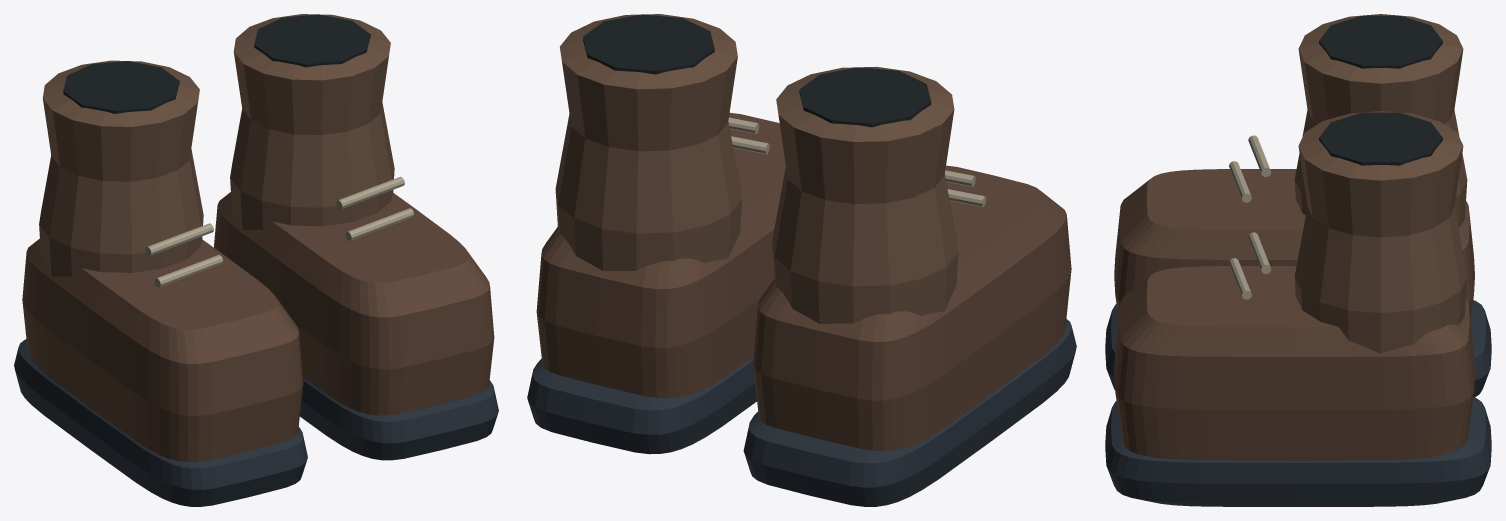
The model's file is R-13_work_boots.glb.
The picture shows the model from 3 angles, left to right: view 1: azimuth 30°, elevation 25°; view 2: azimuth 150°, elevation 25°; view 3: azimuth 270°, elevation 25°; orthographic projection. The views are drawn at different scales.
Visible parts, largest first — view 1: R-13_work_boots; view 2: R-13_work_boots; view 3: R-13_work_boots.
Part boxes in pixels (x1,y1,x2,y2): R-13_work_boots: [14, 14, 498, 506]; R-13_work_boots: [527, 14, 1076, 506]; R-13_work_boots: [1105, 14, 1491, 506].
Size of the model in its own units: 0.317 by 0.289 by 0.3.
